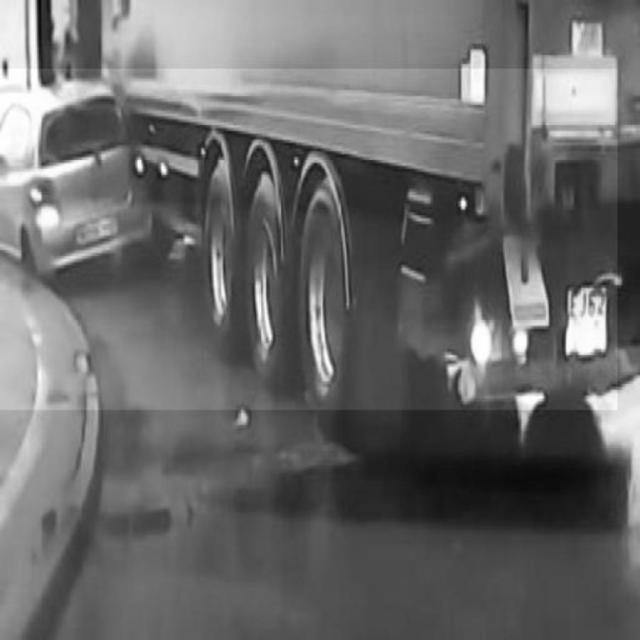accident: (0, 69, 617, 409)
